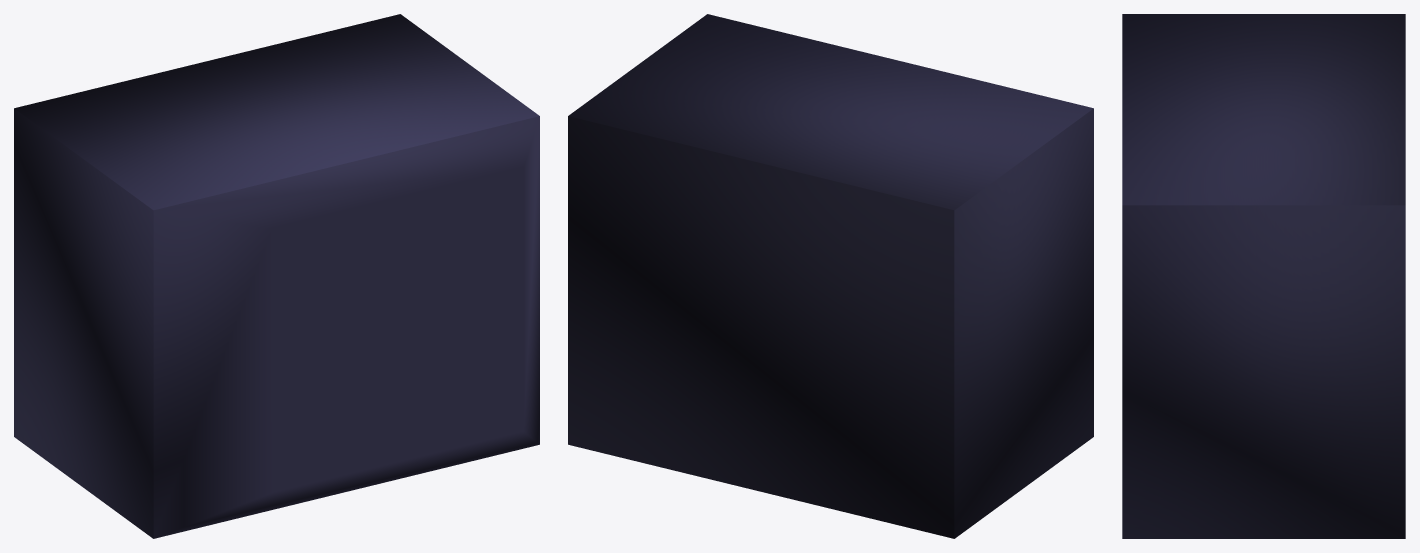
File: CarBoxModel.fbx
The picture shows the model from 3 angles, left to right: view 1: azimuth 30°, elevation 25°; view 2: azimuth 150°, elevation 25°; view 3: azimuth 270°, elevation 25°; orthographic projection.
Parts seen in each view (by area): view 1: carbox.m; view 2: carbox.m; view 3: carbox.m.
Boxes of the visible parts, bbox=[...] form: carbox.m: bbox=[14, 14, 539, 538]; carbox.m: bbox=[568, 14, 1093, 538]; carbox.m: bbox=[1122, 14, 1405, 538].
Bounding box in the file's own units: 169 × 137 × 106.
